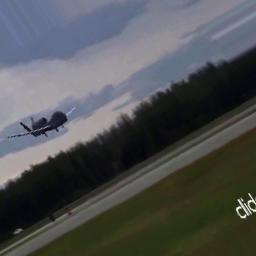ghawk: (5, 110, 75, 144)
